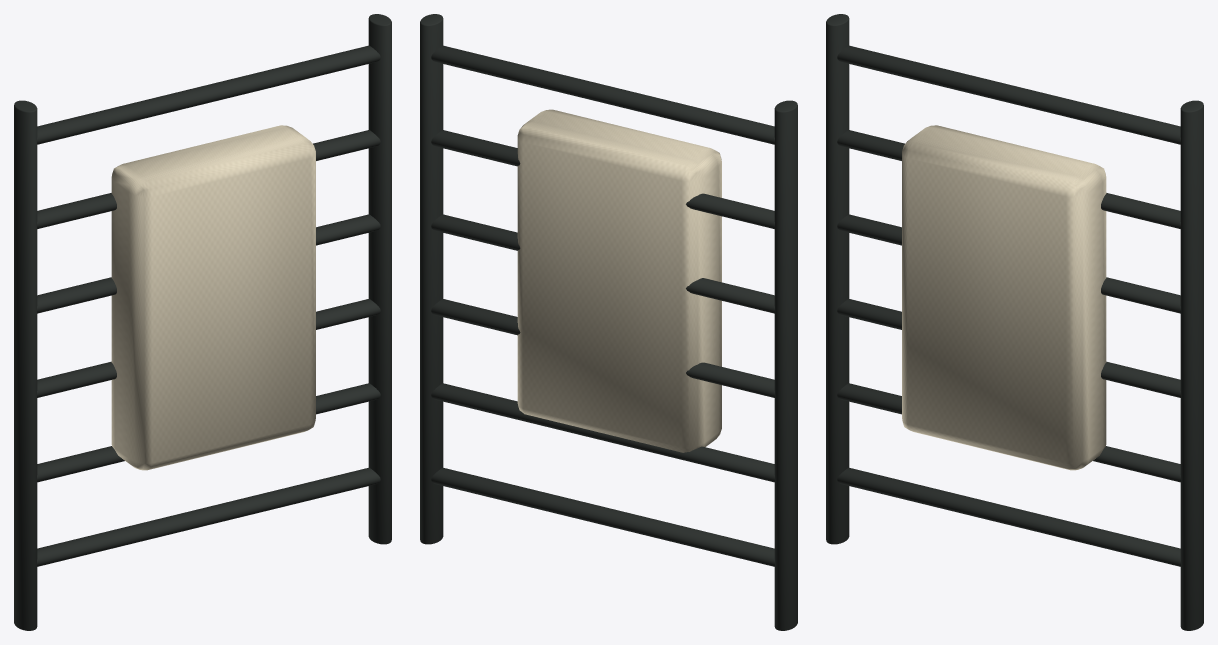
The model's file is towel-rail.glb.
The picture shows the model from 3 angles, left to right: view 1: azimuth 30°, elevation 25°; view 2: azimuth 150°, elevation 25°; view 3: azimuth 330°, elevation 25°; orthographic projection.
Visible parts, largest first — view 1: towel-rail-mesh; view 2: towel-rail-mesh; view 3: towel-rail-mesh.
Boxes of the visible parts, bbox=[...] form: towel-rail-mesh: bbox=[14, 14, 391, 630]; towel-rail-mesh: bbox=[420, 14, 797, 630]; towel-rail-mesh: bbox=[826, 14, 1203, 630].
Bounding box in the file's own units: 0.6 × 0.8 × 0.1.
Materials: 2 (1 with a texture image).
